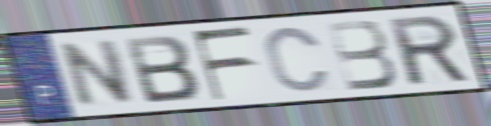B: (121, 32, 202, 105), (323, 18, 400, 93)
C: (263, 24, 333, 94)
F: (189, 24, 256, 104)
N: (58, 37, 137, 110)
R: (385, 13, 474, 88)
